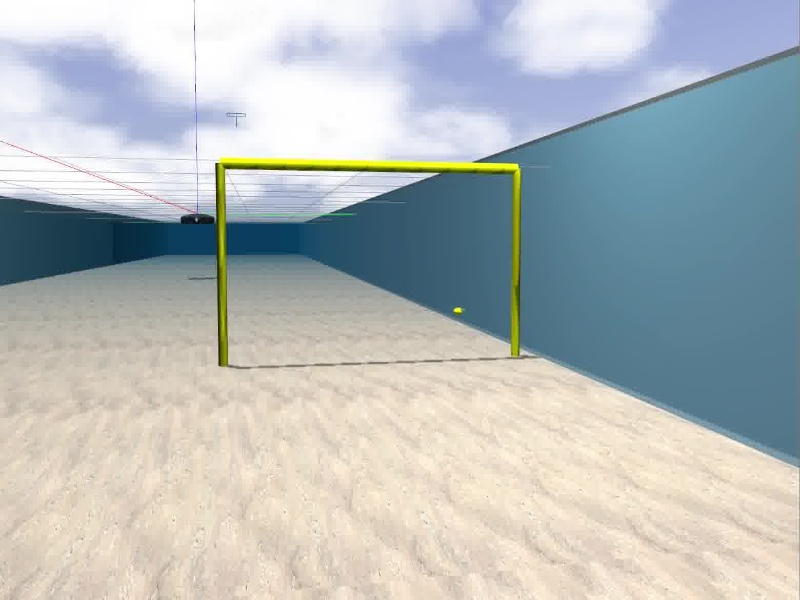gate: (213, 156, 524, 369)
